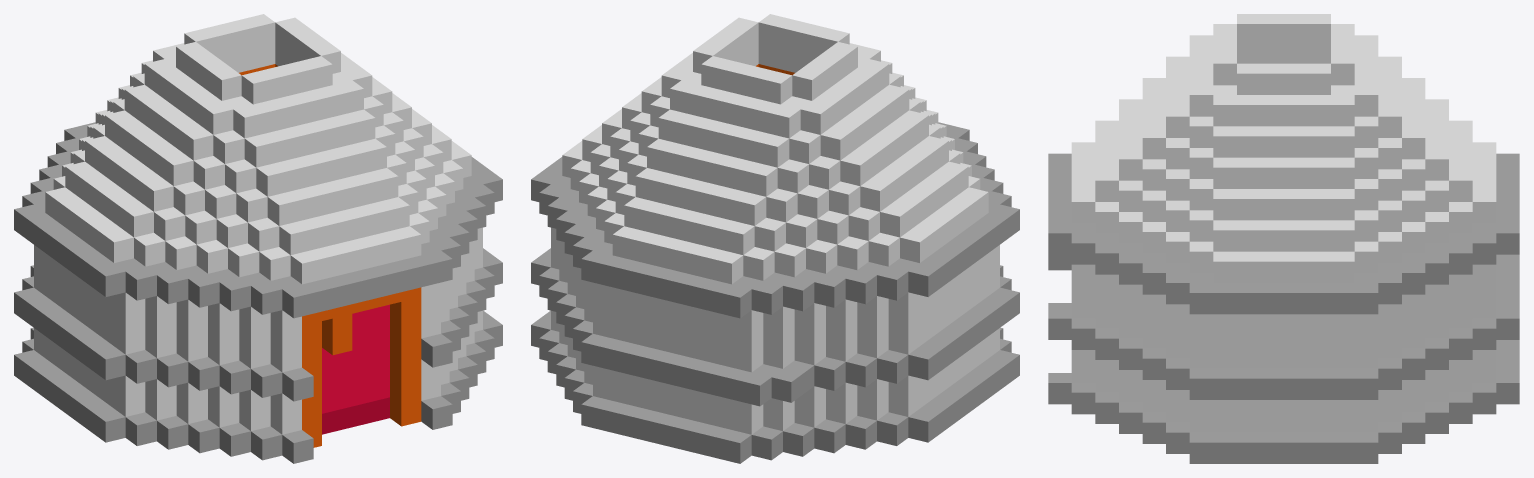
The model's file is Ger Full Scale 1.obj.
The picture shows the model from 3 angles, left to right: view 1: azimuth 30°, elevation 25°; view 2: azimuth 150°, elevation 25°; view 3: azimuth 270°, elevation 25°; orthographic projection. The views are drawn at different scales.
Bounding box in the file's own units: 20 × 15 × 20.
Materials: 1 (1 with a texture image).
